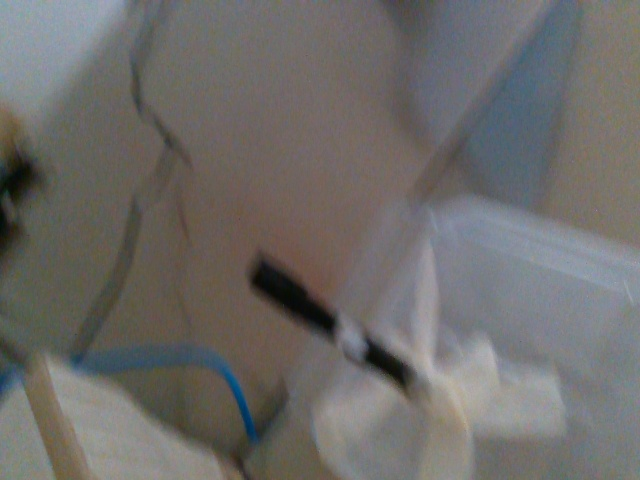test_strip: (245, 253, 368, 362)
